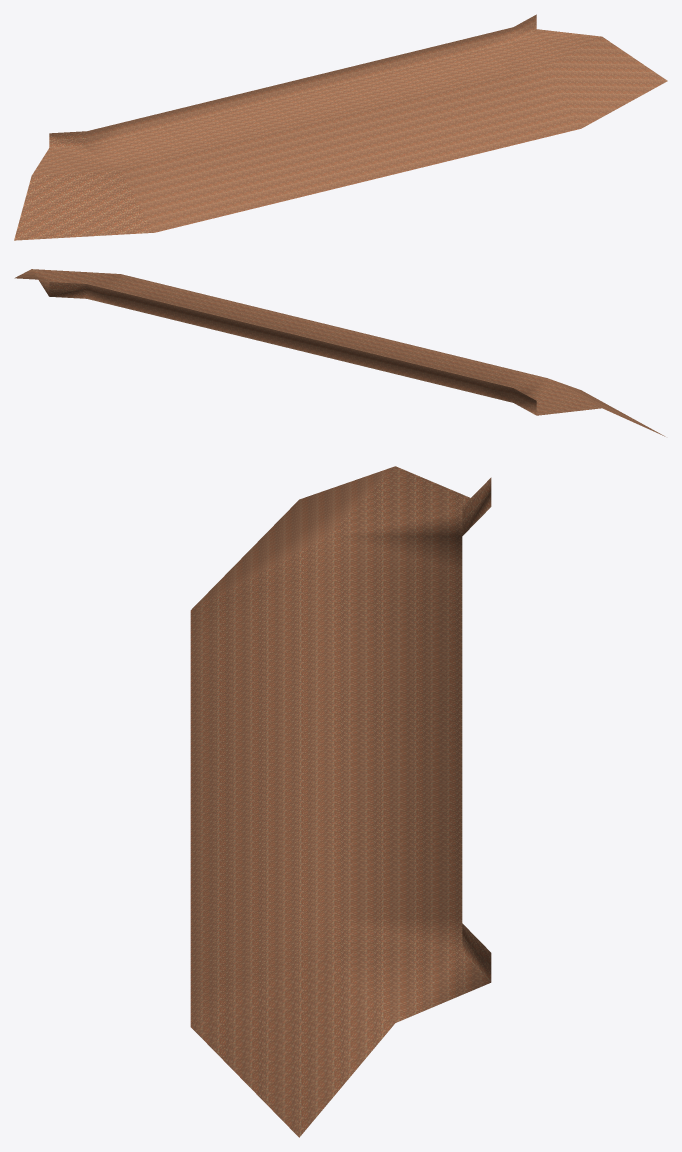
File: ROAD_DockWal.obj
3 views of the same model, one above another, from view 1: azimuth 30°, elevation 25°; view 2: azimuth 150°, elevation 25°; view 3: azimuth 270°, elevation 25° (orthographic). The views are drawn at different scales.
Parts seen in each view (by area): view 1: ROAD_DockWall_001 Mesh; view 2: ROAD_DockWall_001 Mesh; view 3: ROAD_DockWall_001 Mesh.
Boxes of the visible parts, x1,y1,x2,y2 form: ROAD_DockWall_001 Mesh: (14, 14, 667, 240); ROAD_DockWall_001 Mesh: (14, 269, 665, 436); ROAD_DockWall_001 Mesh: (190, 466, 491, 1137).
Bounding box in the file's own units: 1509 × 114 × 301.
1 material, 1 textured.
